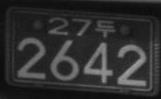2: (15, 35, 46, 79), (117, 42, 147, 87), (47, 16, 69, 36)
4: (83, 42, 113, 83)
6: (50, 40, 79, 81)
7: (71, 16, 91, 36)
두: (95, 19, 116, 38)
